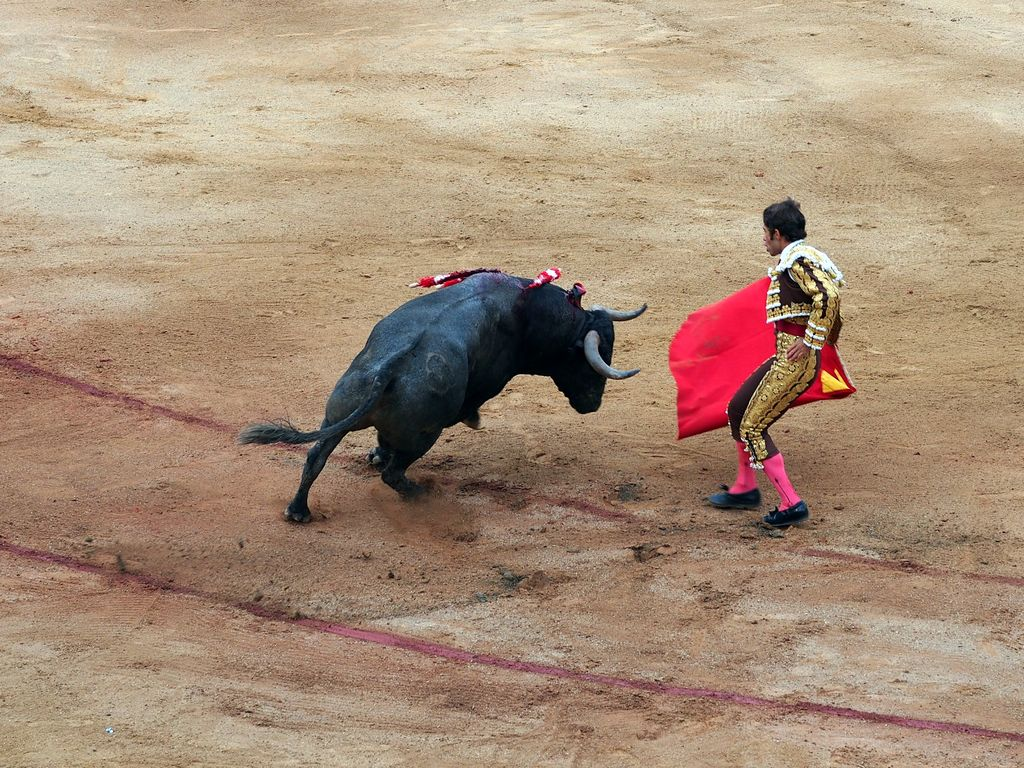Person: (707, 195, 846, 526)
